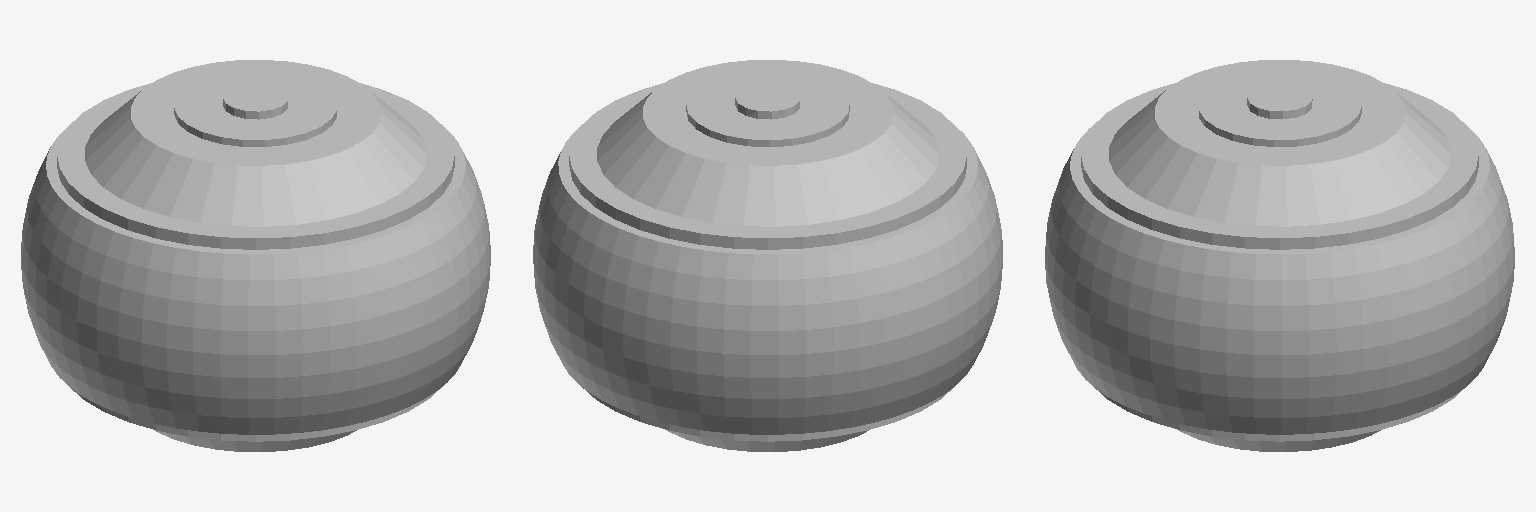
File: l_wheel_link.obj
The picture shows the model from 3 angles: view 1: azimuth 30°, elevation 25°; view 2: azimuth 150°, elevation 25°; view 3: azimuth 270°, elevation 25°; orthographic projection.
Size of the model in its own units: 0.1206 by 0.0895 by 0.1206.